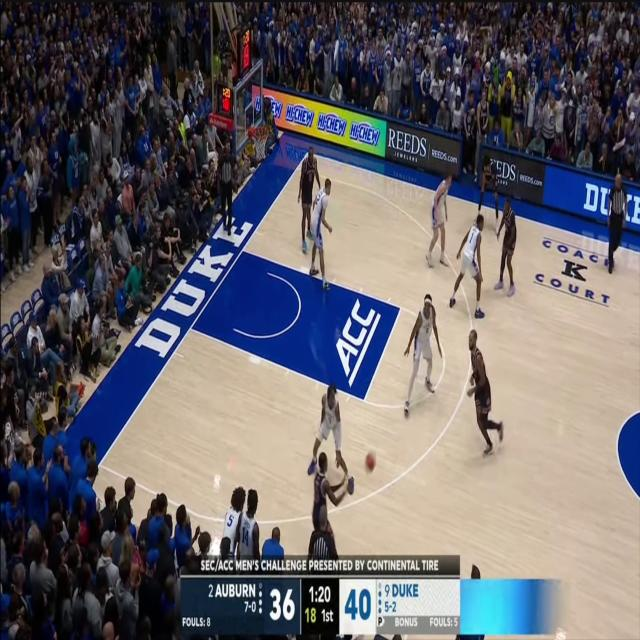basketball: (361, 433, 379, 488)
